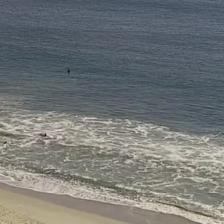surfer: (40, 133, 48, 137), (3, 141, 8, 144), (68, 68, 70, 73)
